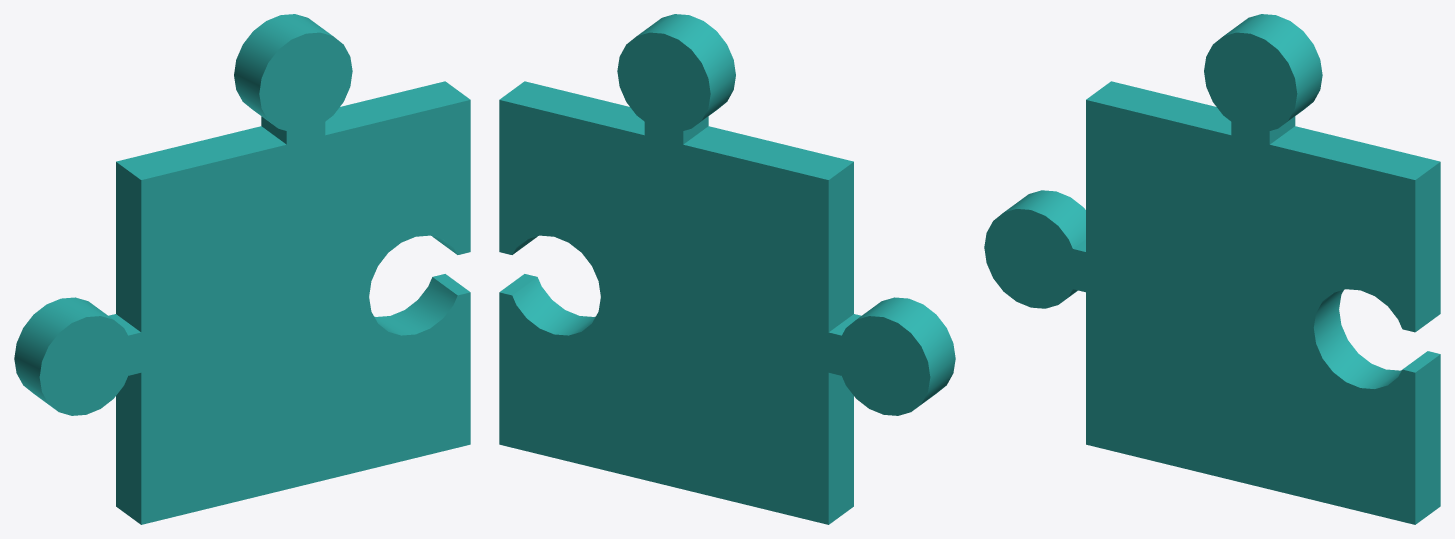
Rendered from jigsaw.glb.
3 renders of one model, left to right at view 1: azimuth 30°, elevation 25°; view 2: azimuth 150°, elevation 25°; view 3: azimuth 330°, elevation 25°, orthographic.
Parts seen in each view (by area): view 1: jigsaw; view 2: jigsaw; view 3: jigsaw.
Boxes of the visible parts, x1,y1,x2,y2 form: jigsaw: (14, 14, 470, 524); jigsaw: (499, 14, 955, 524); jigsaw: (984, 14, 1440, 524).
Bounding box in the file's own units: 0.09 × 0.09 × 0.00917.
